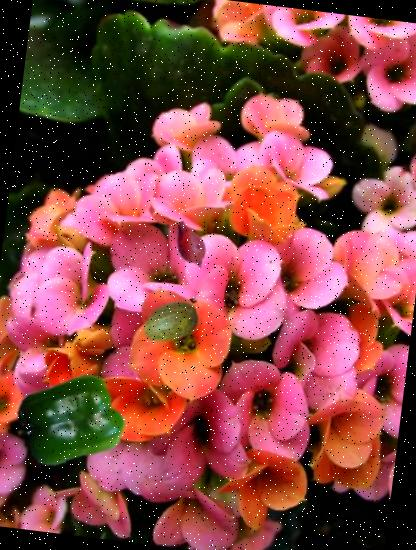Melon: (140, 294, 202, 356)
Pepper: (10, 362, 129, 481)
Salak: (162, 216, 219, 274)
